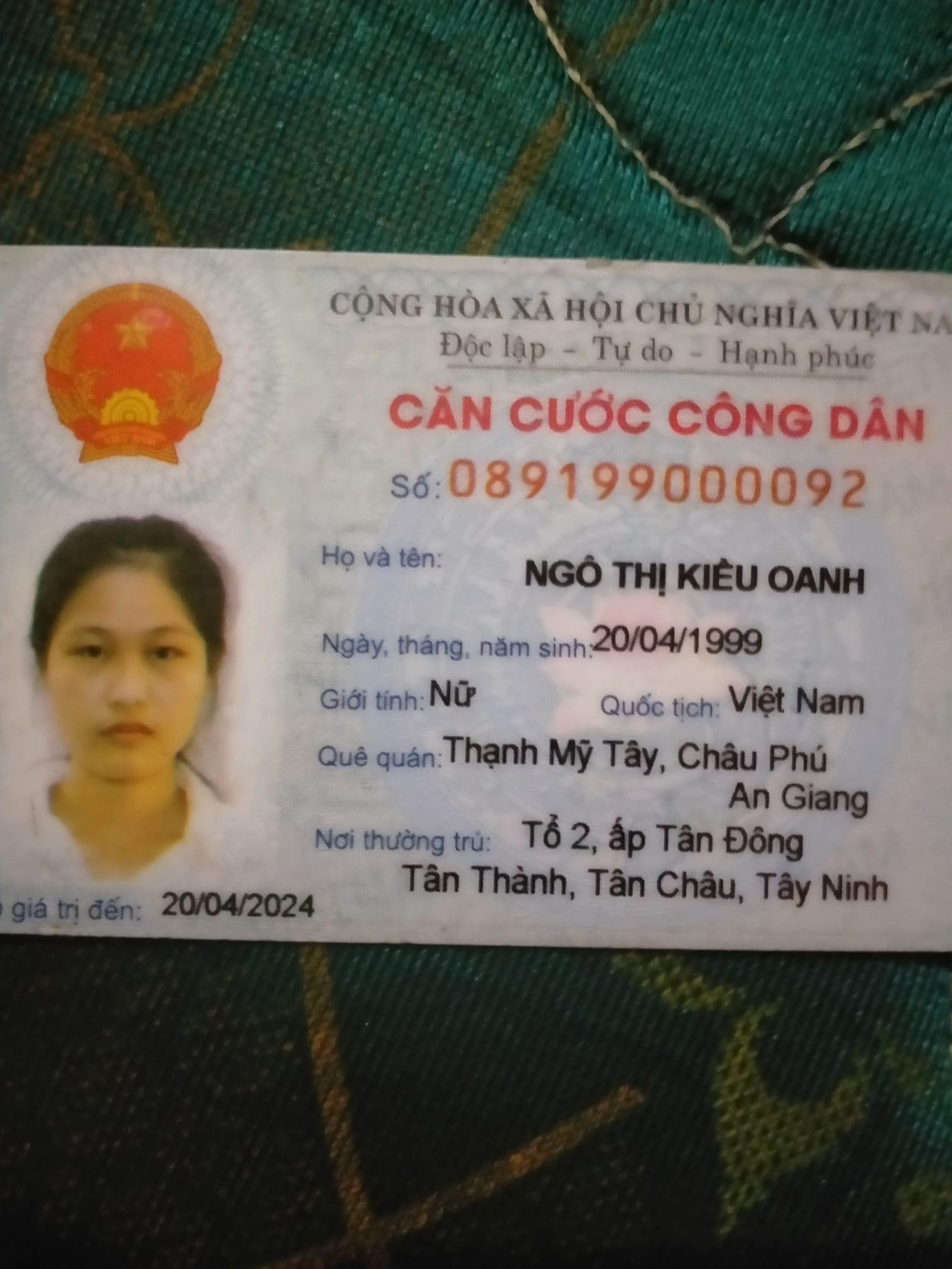image_person: (7, 502, 284, 880)
